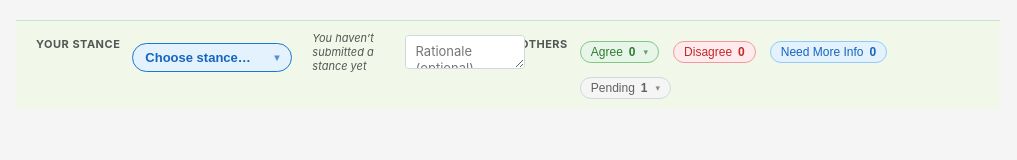
Test: DecisionBar › Pending tooltip lists members who have not yet voted
Click the button with test id "stance-count-pending": (625, 88) [580,77,671,99]
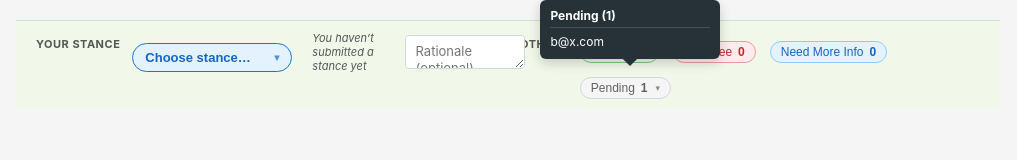
Now the tooltip with test id "stance-tooltip-pending" shows "b@x.com", box [550,34,604,49]
